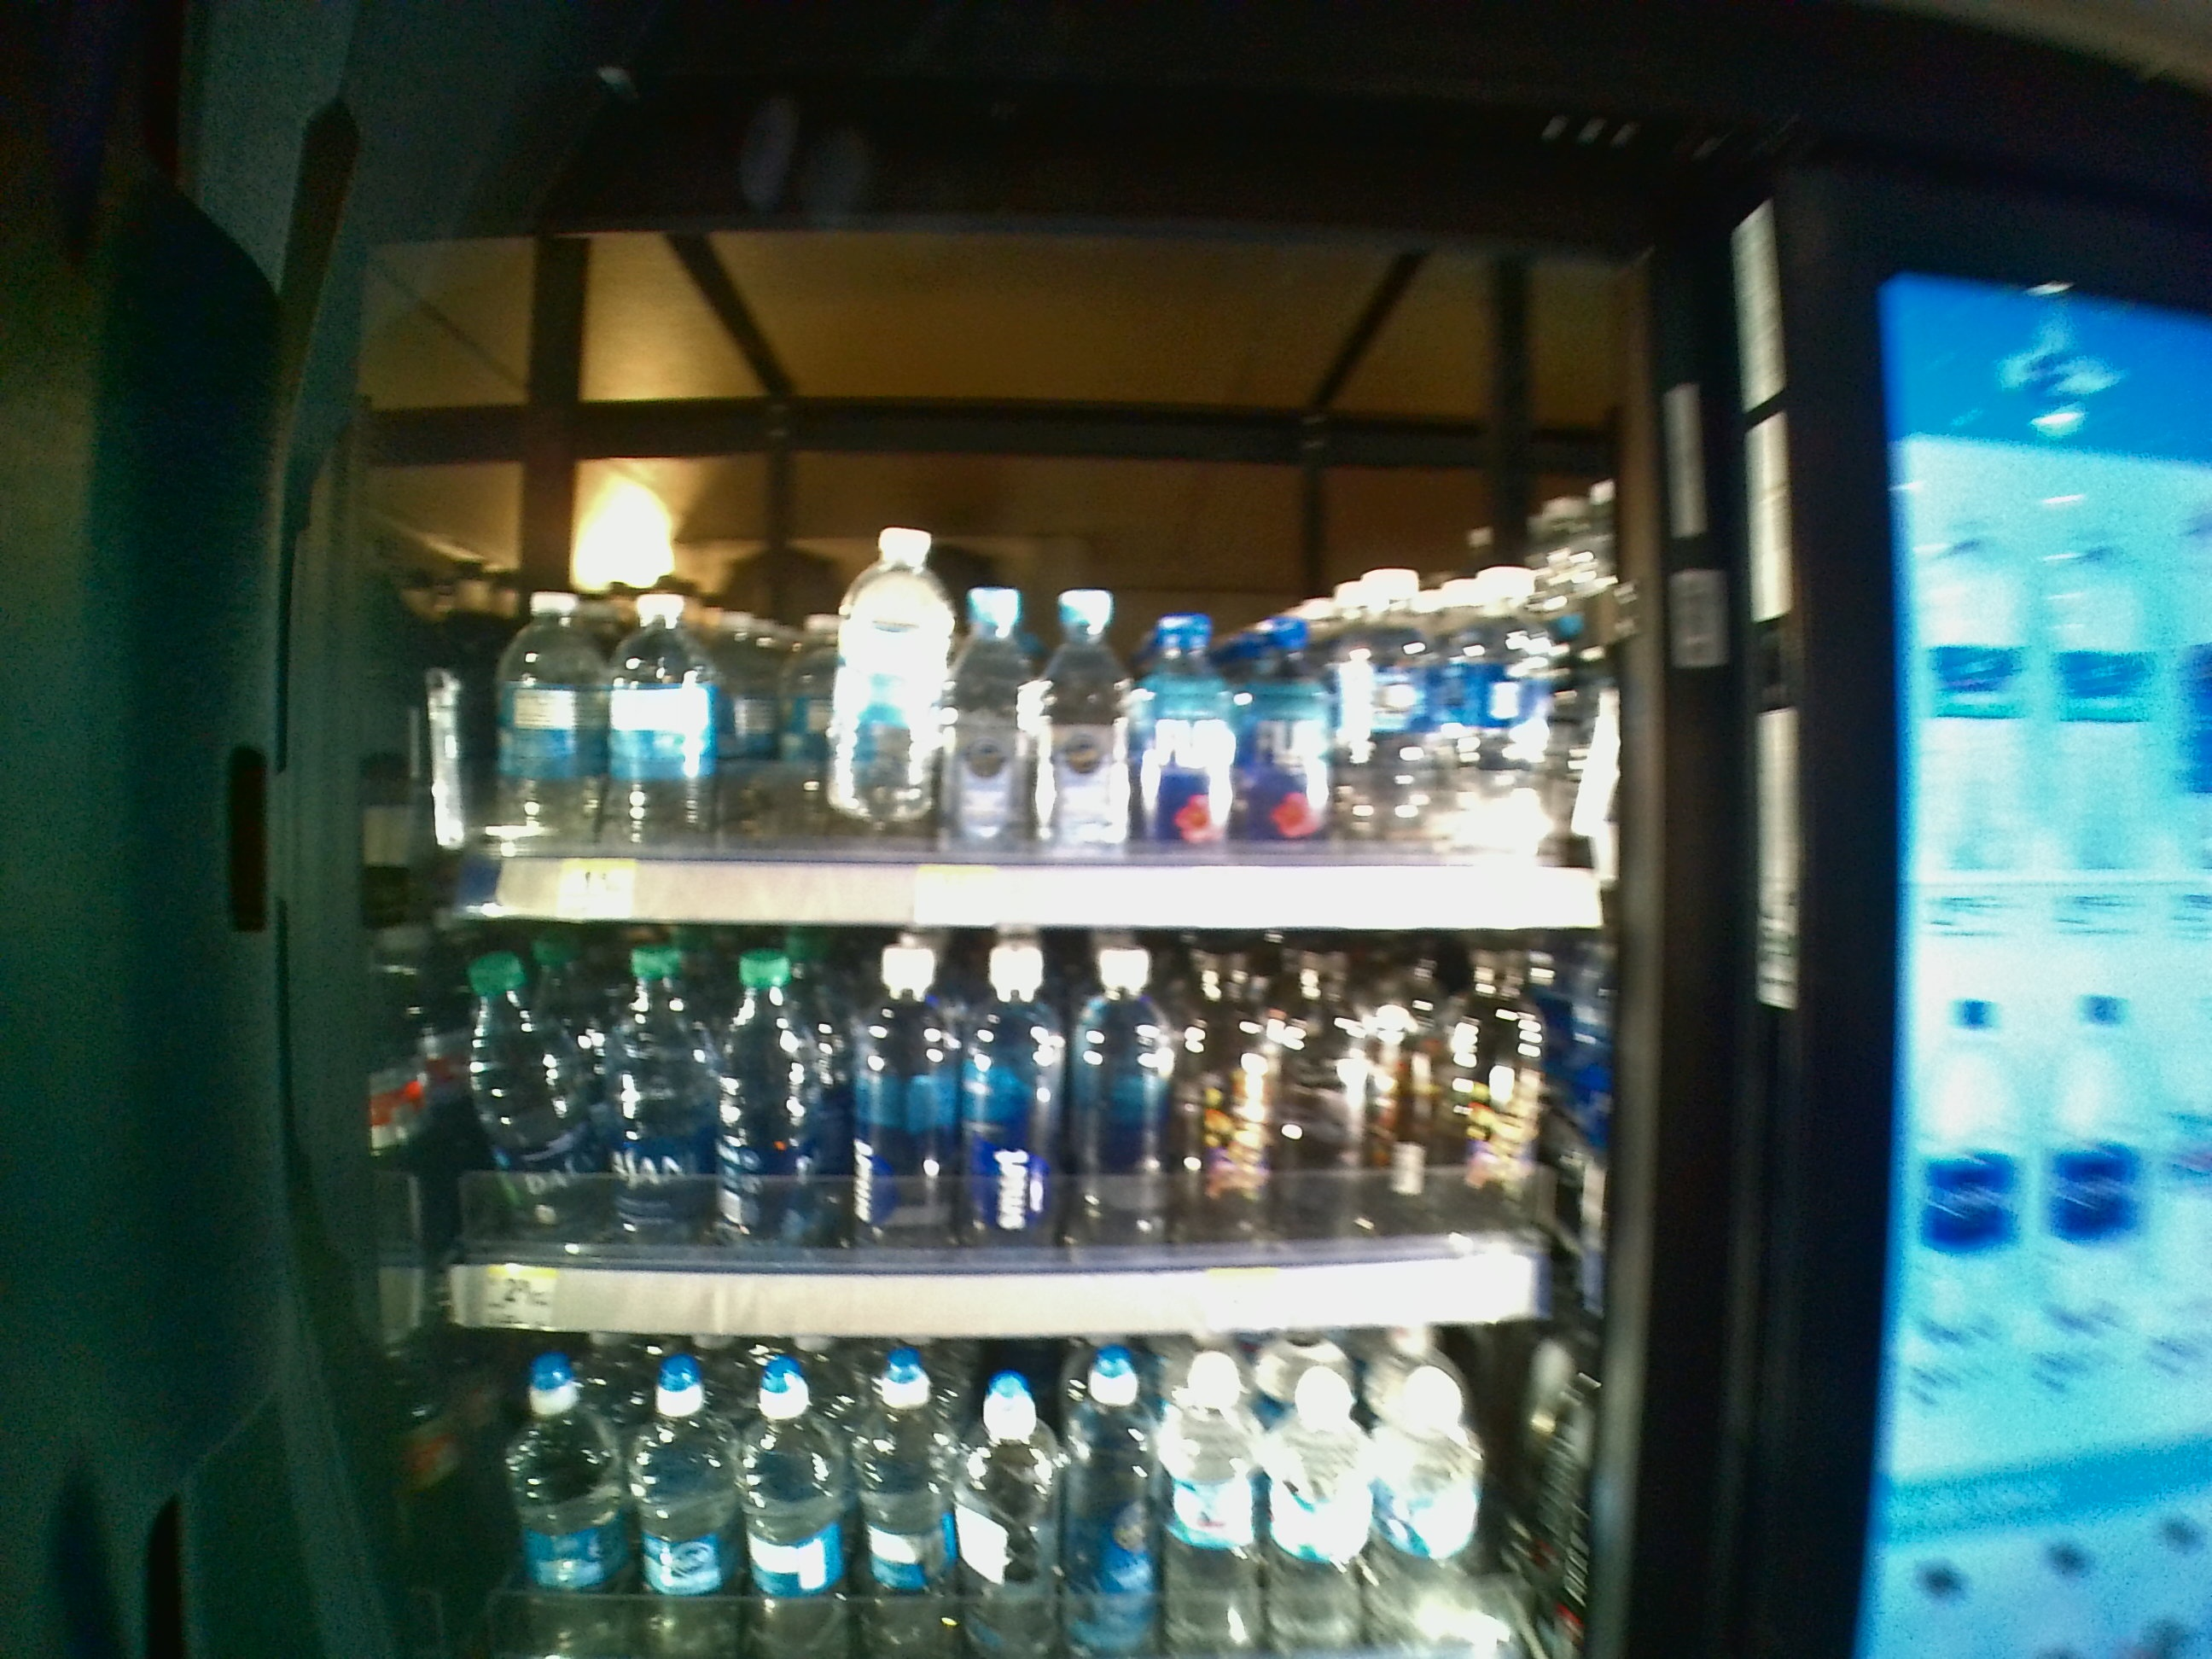shelf: (387, 232, 1672, 929), (383, 927, 1676, 1344)
